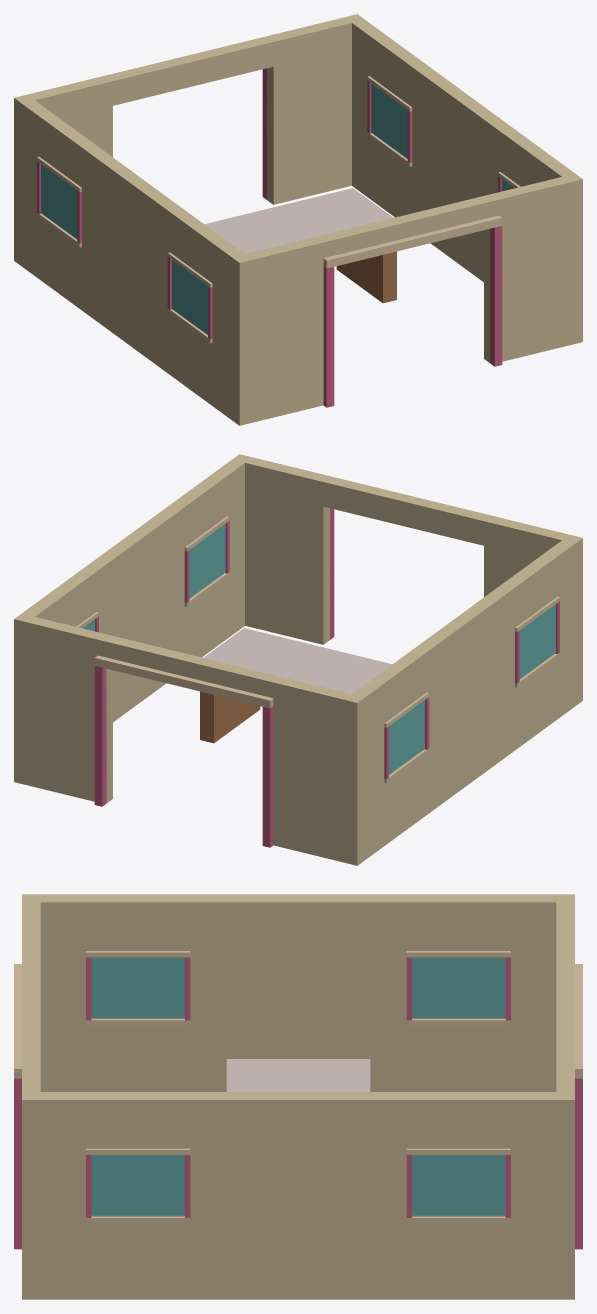
Rendered from Candyland_SweetShopShell_Simple.glb.
3 renders of one model, top to bottom at view 1: azimuth 30°, elevation 25°; view 2: azimuth 150°, elevation 25°; view 3: azimuth 270°, elevation 25°, orthographic. The views are drawn at different scales.
Parts seen in each view (by area): view 1: Candyland_SweetShopShell_Simple; view 2: Candyland_SweetShopShell_Simple; view 3: Candyland_SweetShopShell_Simple.
Boxes of the visible parts, x1=… form: Candyland_SweetShopShell_Simple: x1=14, y1=14, x2=582, y2=425; Candyland_SweetShopShell_Simple: x1=14, y1=454, x2=582, y2=865; Candyland_SweetShopShell_Simple: x1=14, y1=894, x2=582, y2=1299.
Size of the model in its own units: 7.41 by 3.3 by 8.52.
